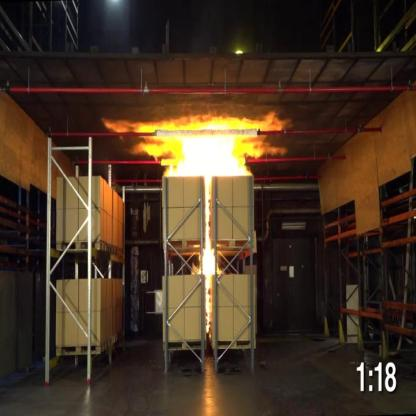fire: (99, 109, 296, 175), (196, 182, 219, 340)
